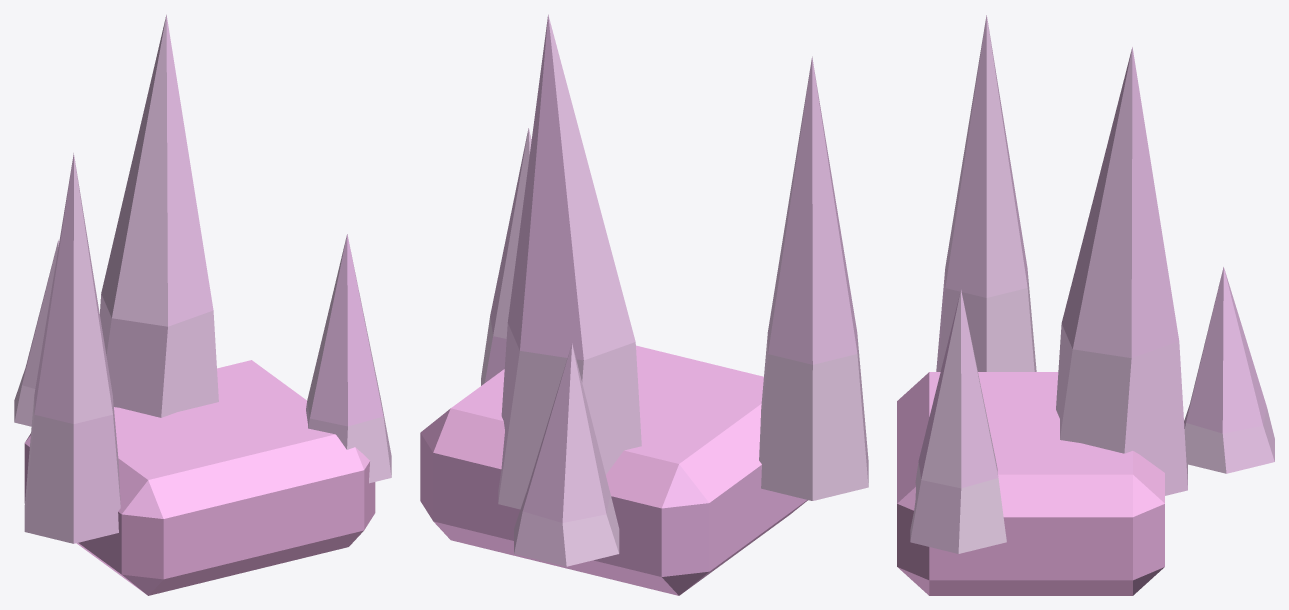
File: Crystal_Small.fbx
3 views of the same model, side by side, from view 1: azimuth 30°, elevation 25°; view 2: azimuth 150°, elevation 25°; view 3: azimuth 270°, elevation 25° (orthographic). The views are drawn at different scales.
Parts seen in each view (by area): view 1: Crystal_Small; view 2: Crystal_Small; view 3: Crystal_Small.
Part boxes in pixels (<box>): Crystal_Small: <box>14,14,391,595</box>; Crystal_Small: <box>420,14,868,595</box>; Crystal_Small: <box>897,15,1274,595</box>.
Size of the model in its own units: 76.64 by 100 by 67.66.
